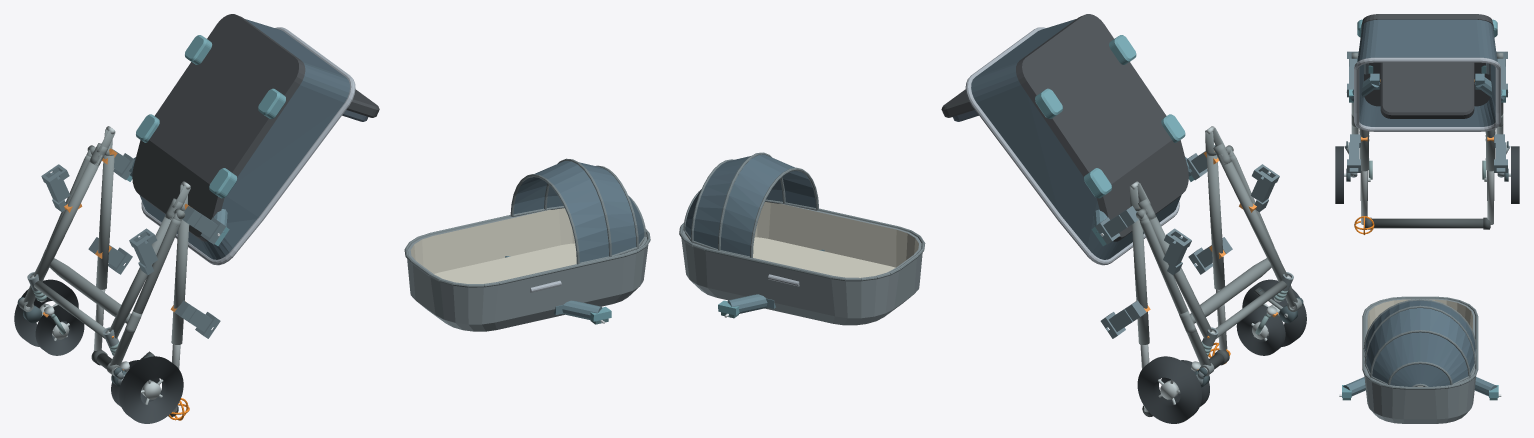
File: D21_w550_state3_wheel_S.glb
The picture shows the model from 3 angles, left to right: view 1: azimuth 30°, elevation 25°; view 2: azimuth 150°, elevation 25°; view 3: azimuth 270°, elevation 25°; orthographic projection. The views are drawn at different scales.
Parts seen in each view (by area): view 1: D21_Lower, D21_Upper, RL_tire.004, main_upper_1.005, main_lower_1.005, FR_tire.004, V46_rear_leg_-1.005, main_upper_-1.005, V46_rearbar.005, RR_tire.004, main_lower_-1.005, D21_Upper_Mount_H (+5 smaller); view 2: D21_Lower, D21_Upper, RR_tire.004, main_upper_-1.005, main_lower_-1.005, FL_tire.004, V46_rear_leg_1.005, main_upper_1.005, V46_rearbar.005, main_lower_1.005, RL_tire.004, D21_Upper_Mount_H (+5 smaller); view 3: D21_Lower, D21_Upper, round_handle.004, D21_Upper_Mount_H, D21_Lower_Mount_M, RL_tire.004, RR_tire.004, Universal_Cabin_Receiver_H_1, Universal_Cabin_Receiver_H_-1, handle_slider_1.004, main_upper_1.005, main_upper_-1.005 (+4 smaller).
Boxes of the visible parts, box(x1,y1,x2,y2) form: D21_Lower: box(132, 14, 379, 265); D21_Upper: box(404, 158, 650, 331); RL_tire.004: box(119, 356, 183, 423); main_upper_1.005: box(96, 155, 114, 289); main_lower_1.005: box(33, 155, 102, 281); FR_tire.004: box(35, 305, 84, 355); V46_rear_leg_-1.005: box(110, 218, 181, 365); main_upper_-1.005: box(171, 211, 189, 344); V46_rearbar.005: box(49, 258, 130, 323); RR_tire.004: box(14, 279, 78, 346); main_lower_-1.005: box(109, 215, 174, 338); D21_Upper_Mount_H: box(505, 256, 611, 324); D21_Lower: box(941, 14, 1188, 265); D21_Upper: box(679, 152, 925, 325); RR_tire.004: box(1137, 356, 1201, 423); main_upper_-1.005: box(1206, 155, 1224, 289); main_lower_-1.005: box(1218, 155, 1287, 281); FL_tire.004: box(1236, 305, 1285, 355); V46_rear_leg_1.005: box(1140, 218, 1211, 365); main_upper_1.005: box(1132, 211, 1149, 344); V46_rearbar.005: box(1190, 258, 1271, 323); main_lower_1.005: box(1147, 216, 1212, 338); RL_tire.004: box(1242, 279, 1306, 346); D21_Upper_Mount_H: box(718, 249, 824, 318); D21_Lower: box(1354, 14, 1500, 131); D21_Upper: box(1362, 296, 1478, 423); round_handle.004: box(1371, 218, 1490, 228); D21_Upper_Mount_H: box(1339, 377, 1501, 400); D21_Lower_Mount_M: box(1346, 73, 1508, 102); RL_tire.004: box(1335, 146, 1343, 203); RR_tire.004: box(1511, 146, 1519, 203); Universal_Cabin_Receiver_H_1: box(1494, 134, 1507, 172); Universal_Cabin_Receiver_H_-1: box(1347, 134, 1360, 172); handle_slider_1.004: box(1487, 171, 1493, 224); main_upper_1.005: box(1486, 129, 1495, 171); main_upper_-1.005: box(1359, 129, 1368, 171).
Bounding box in the file's own units: 1.9 × 1.05 × 0.641.
